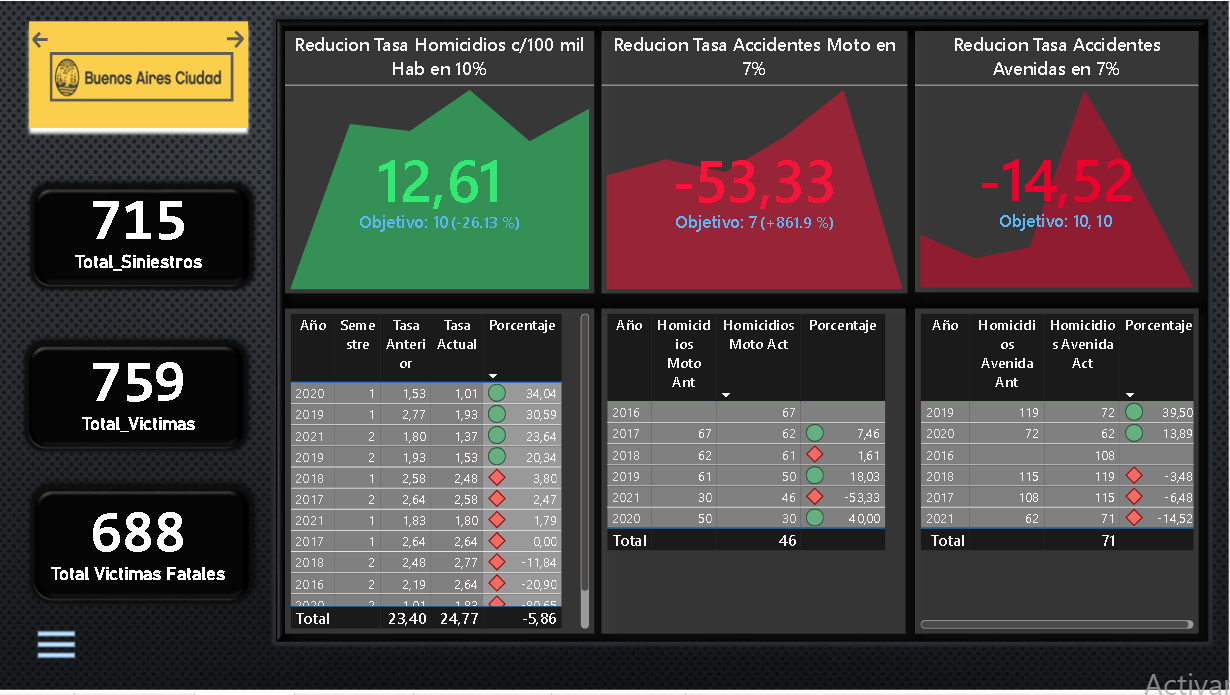

What the dashboard file says about the page in this screenshot:
{"tool":"powerbi","page":{"name":"Kpi's","canvas":[1280,720],"ordinal":2},"visuals":[{"type":"slicer","fields":{"Values":["Siniestros Viales.Año_Hechos"]},"box":[48.3,195,193.3,108.3],"z":0},{"type":"slicer","fields":{"Values":["Siniestros Viales.Participantes"]},"box":[48.3,510,185,111.7],"z":1},{"type":"slicer","fields":{"Values":["Siniestros Viales.Victima"]},"box":[46.7,360,186.7,115],"z":2},{"type":"gauge","fields":{"Y":["Medidas.KPI_1"]},"box":[345,35,220,293.3],"z":3},{"type":"gauge","fields":{"Y":["Medidas.KPI_2"]},"box":[640,35,223.3,293.3],"z":4},{"type":"tableEx","fields":{"Values":["Calendario.Año","Calendario.Semestre","Medidas.Tasa_Actual_HSV","Medidas.Tasa_Semestre_Ant_HSV","Medidas.KPI_1"]},"box":[816.7,426.7,333.3,283.3],"z":5},{"type":"card","fields":{"Values":["Medidas.KPI_1_%"]},"box":[936.7,65,193.3,263.3],"z":6},{"type":"clusteredColumnChart","fields":{"Y":["Medidas.Tasa_Actual_HSV","Medidas.Tasa_Semestre_Ant_HSV"]},"box":[323.3,360,241.7,296.7],"z":7}]}

Visuals, with their boxes on the page's 1280x720 design canvas (x1, y1, x2, y2). These are canvas units, not pixel positions in the 1230x695 screenshot, which may show the page scaled, cropped or inside an application window:
slicer - Siniestros Viales.Año_Hechos: left=48, top=195, right=242, bottom=303
slicer - Siniestros Viales.Participantes: left=48, top=510, right=233, bottom=622
slicer - Siniestros Viales.Victima: left=47, top=360, right=233, bottom=475
gauge - Medidas.KPI_1: left=345, top=35, right=565, bottom=328
gauge - Medidas.KPI_2: left=640, top=35, right=863, bottom=328
tableEx - Calendario.Año x Calendario.Semestre: left=817, top=427, right=1150, bottom=710
card - Medidas.KPI_1_%: left=937, top=65, right=1130, bottom=328
clusteredColumnChart - Medidas.Tasa_Actual_HSV x Medidas.Tasa_Semestre_Ant_HSV: left=323, top=360, right=565, bottom=657
